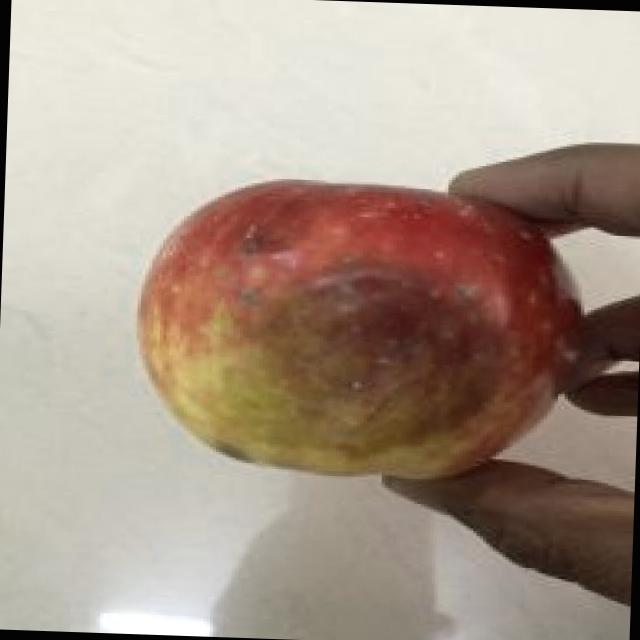Rotten_Apple: (89, 125, 584, 512)
